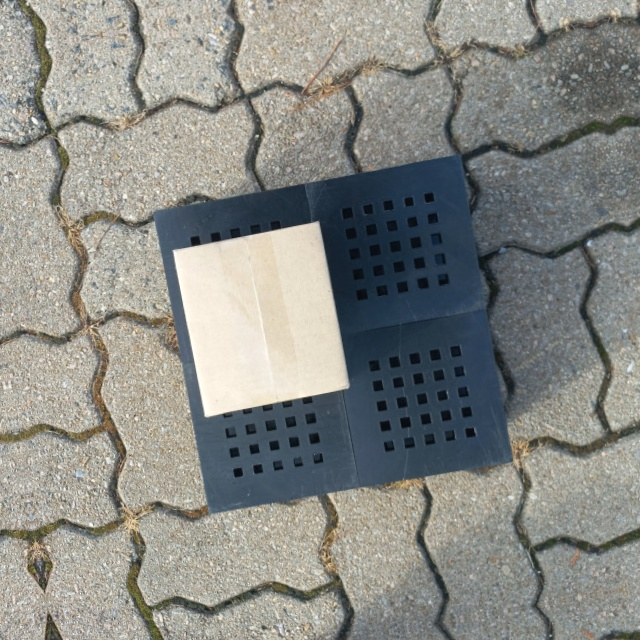box: (168, 216, 354, 422)
pallet: (145, 138, 523, 523)
